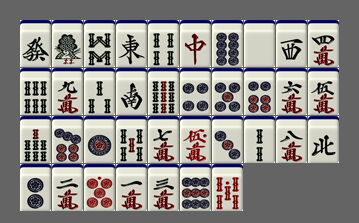0m: (180, 116, 211, 163)
0p: (84, 164, 115, 211)
0s: (212, 164, 243, 211)
1m: (116, 164, 147, 211)
1p: (84, 116, 115, 163)
1s: (52, 20, 83, 67)
1z: (116, 20, 147, 67)
2m: (52, 164, 83, 211)
2p: (20, 164, 51, 211)
2s: (244, 116, 275, 163)
2z: (116, 68, 147, 115)
3m: (148, 164, 179, 211)
3p: (212, 116, 243, 163)
3s: (84, 68, 115, 115)
3z: (276, 20, 307, 67)
4m: (308, 20, 339, 67)
4p: (180, 68, 211, 115)
4s: (148, 20, 179, 67)
4z: (308, 116, 339, 163)
5m: (308, 68, 339, 115)
5p: (212, 68, 243, 115)
5s: (116, 116, 147, 163)
5z: (244, 20, 275, 67)
6m: (276, 68, 307, 115)
6p: (244, 68, 275, 115)
6s: (20, 68, 51, 115)
6z: (20, 20, 51, 67)
7m: (148, 116, 179, 163)
7p: (52, 116, 83, 163)
7s: (20, 116, 51, 163)
7z: (180, 20, 211, 67)
8m: (276, 116, 307, 163)
8p: (212, 20, 243, 67)
8s: (84, 20, 115, 67)
9m: (52, 68, 83, 115)
9p: (180, 164, 211, 211)
9s: (148, 68, 179, 115)
